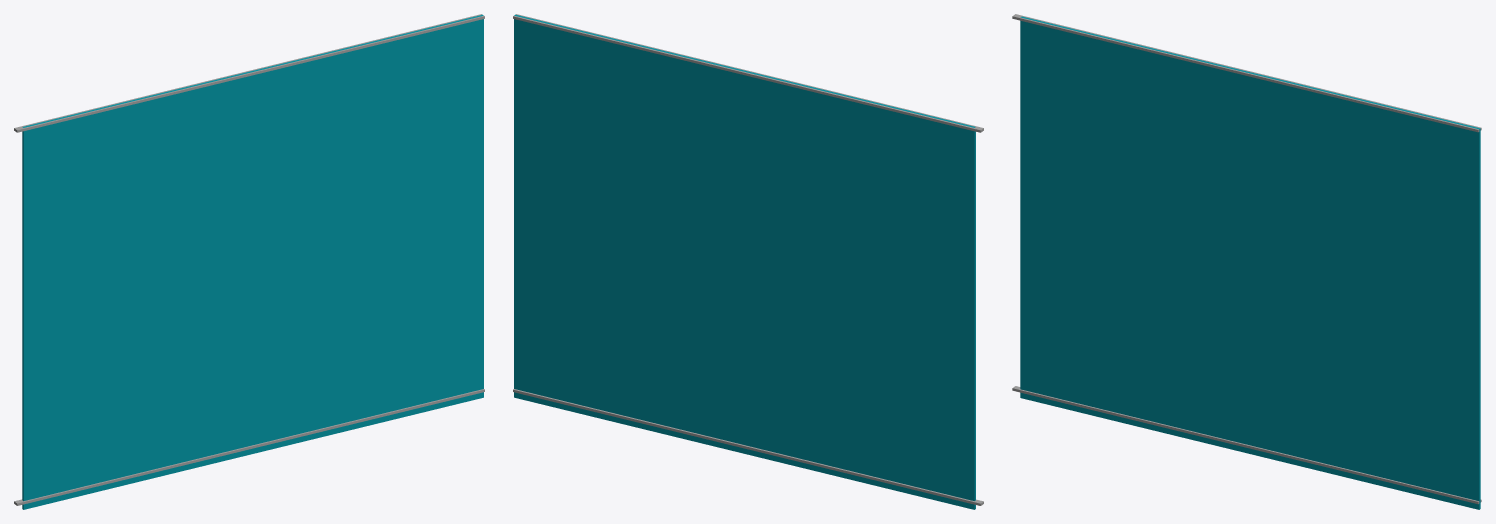
Rendered from Lobby_PhaseableGlass.fbx.
The picture shows the model from 3 angles, left to right: view 1: azimuth 30°, elevation 25°; view 2: azimuth 150°, elevation 25°; view 3: azimuth 330°, elevation 25°; orthographic projection.
Parts seen in each view (by area): view 1: Phasable_Glass, Phase_Glass_Border, Phase_Glass_Border1; view 2: Phasable_Glass, Phase_Glass_Border, Phase_Glass_Border1; view 3: Phasable_Glass, Phase_Glass_Border, Phase_Glass_Border1.
Boxes of the visible parts, x1,y1,x2,y2 form: Phasable_Glass: (22,14,483,509); Phase_Glass_Border: (14,14,484,132); Phase_Glass_Border1: (14,389,484,505); Phasable_Glass: (514,14,975,509); Phase_Glass_Border: (513,14,983,132); Phase_Glass_Border1: (513,389,983,505); Phasable_Glass: (1020,16,1480,509); Phase_Glass_Border: (1012,14,1481,132); Phase_Glass_Border1: (1012,386,1481,504).
Size of the model in its own units: 1180 by 921 by 13.88.
